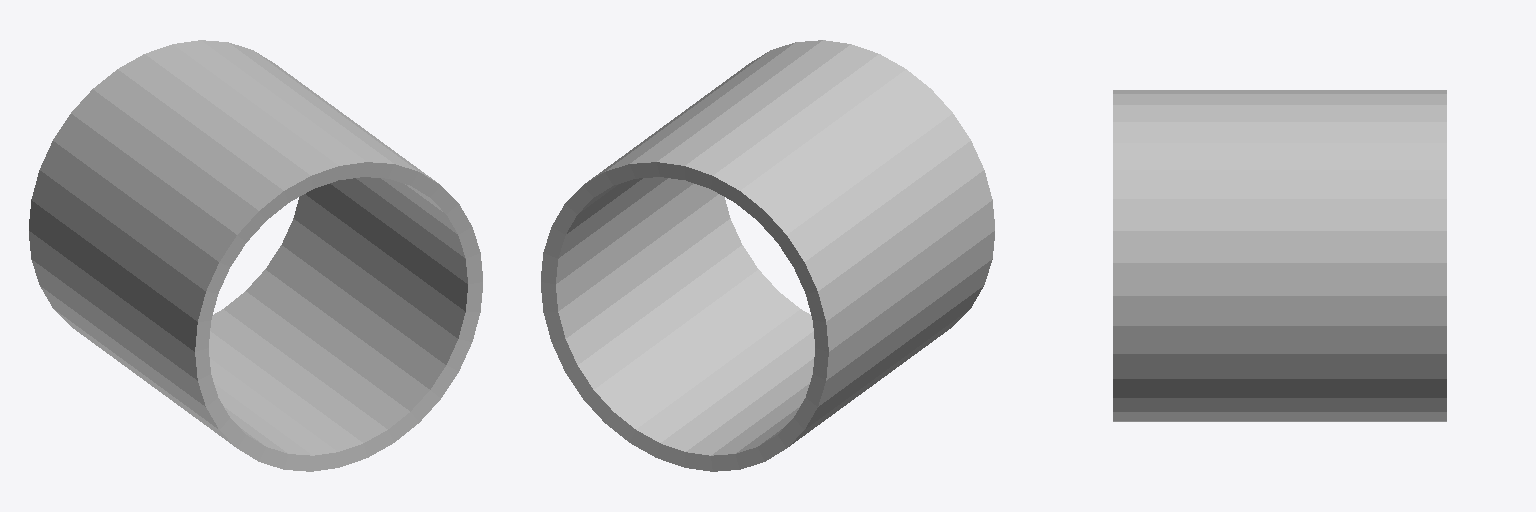
The model's file is CylinderHollow2SidesShape.obj.
3 views of the same model, side by side, from view 1: azimuth 30°, elevation 25°; view 2: azimuth 150°, elevation 25°; view 3: azimuth 270°, elevation 25° (orthographic).
Parts seen in each view (by area): view 1: Cylinder; view 2: Cylinder; view 3: Cylinder.
Boxes of the visible parts, <box> form: Cylinder: <box>29,40,482,471</box>; Cylinder: <box>541,40,994,471</box>; Cylinder: <box>1113,90,1446,421</box>.
Size of the model in its own units: 200 by 200 by 200.